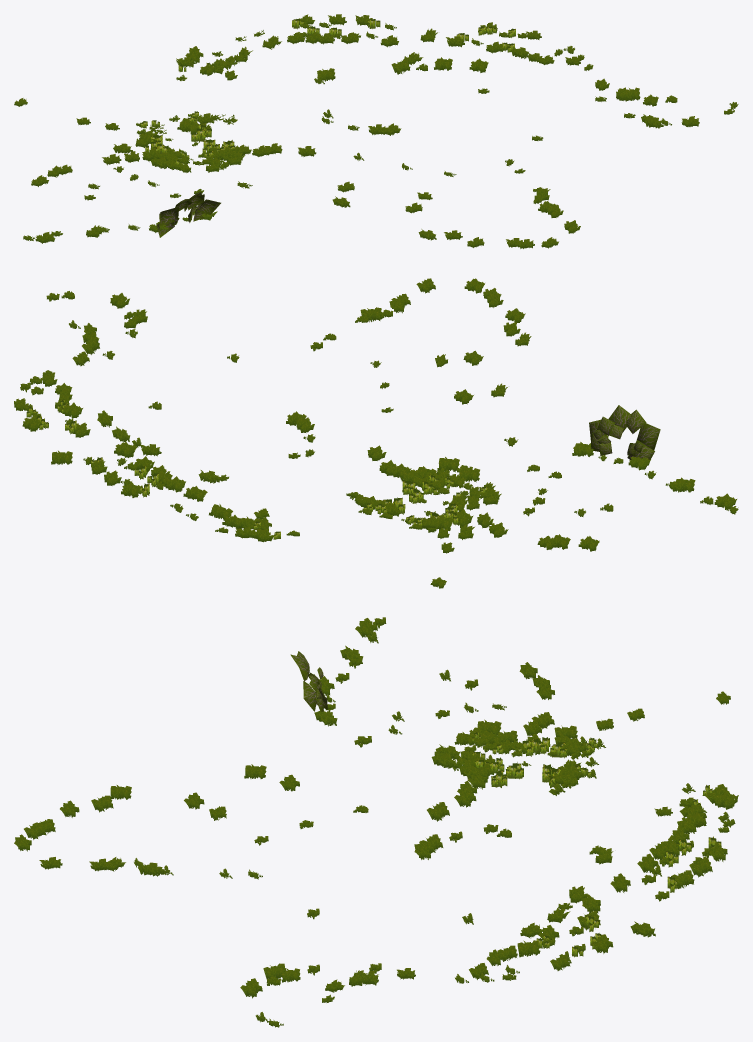
Rendered from all_daliang_field_v_i01_no_shadow.fbx.
The picture shows the model from 3 angles, top to bottom: view 1: azimuth 30°, elevation 25°; view 2: azimuth 150°, elevation 25°; view 3: azimuth 270°, elevation 25°; orthographic projection. The views are drawn at different scales.
Visible parts, largest first — view 1: all_daliang_field_v_i01_no_shadow; view 2: all_daliang_field_v_i01_no_shadow; view 3: all_daliang_field_v_i01_no_shadow.
Boxes of the visible parts, <box> form: all_daliang_field_v_i01_no_shadow: <box>14,14,738,248</box>; all_daliang_field_v_i01_no_shadow: <box>14,278,738,588</box>; all_daliang_field_v_i01_no_shadow: <box>14,617,738,1027</box>.
Bounding box in the file's own units: 20381 × 1464 × 15287.
